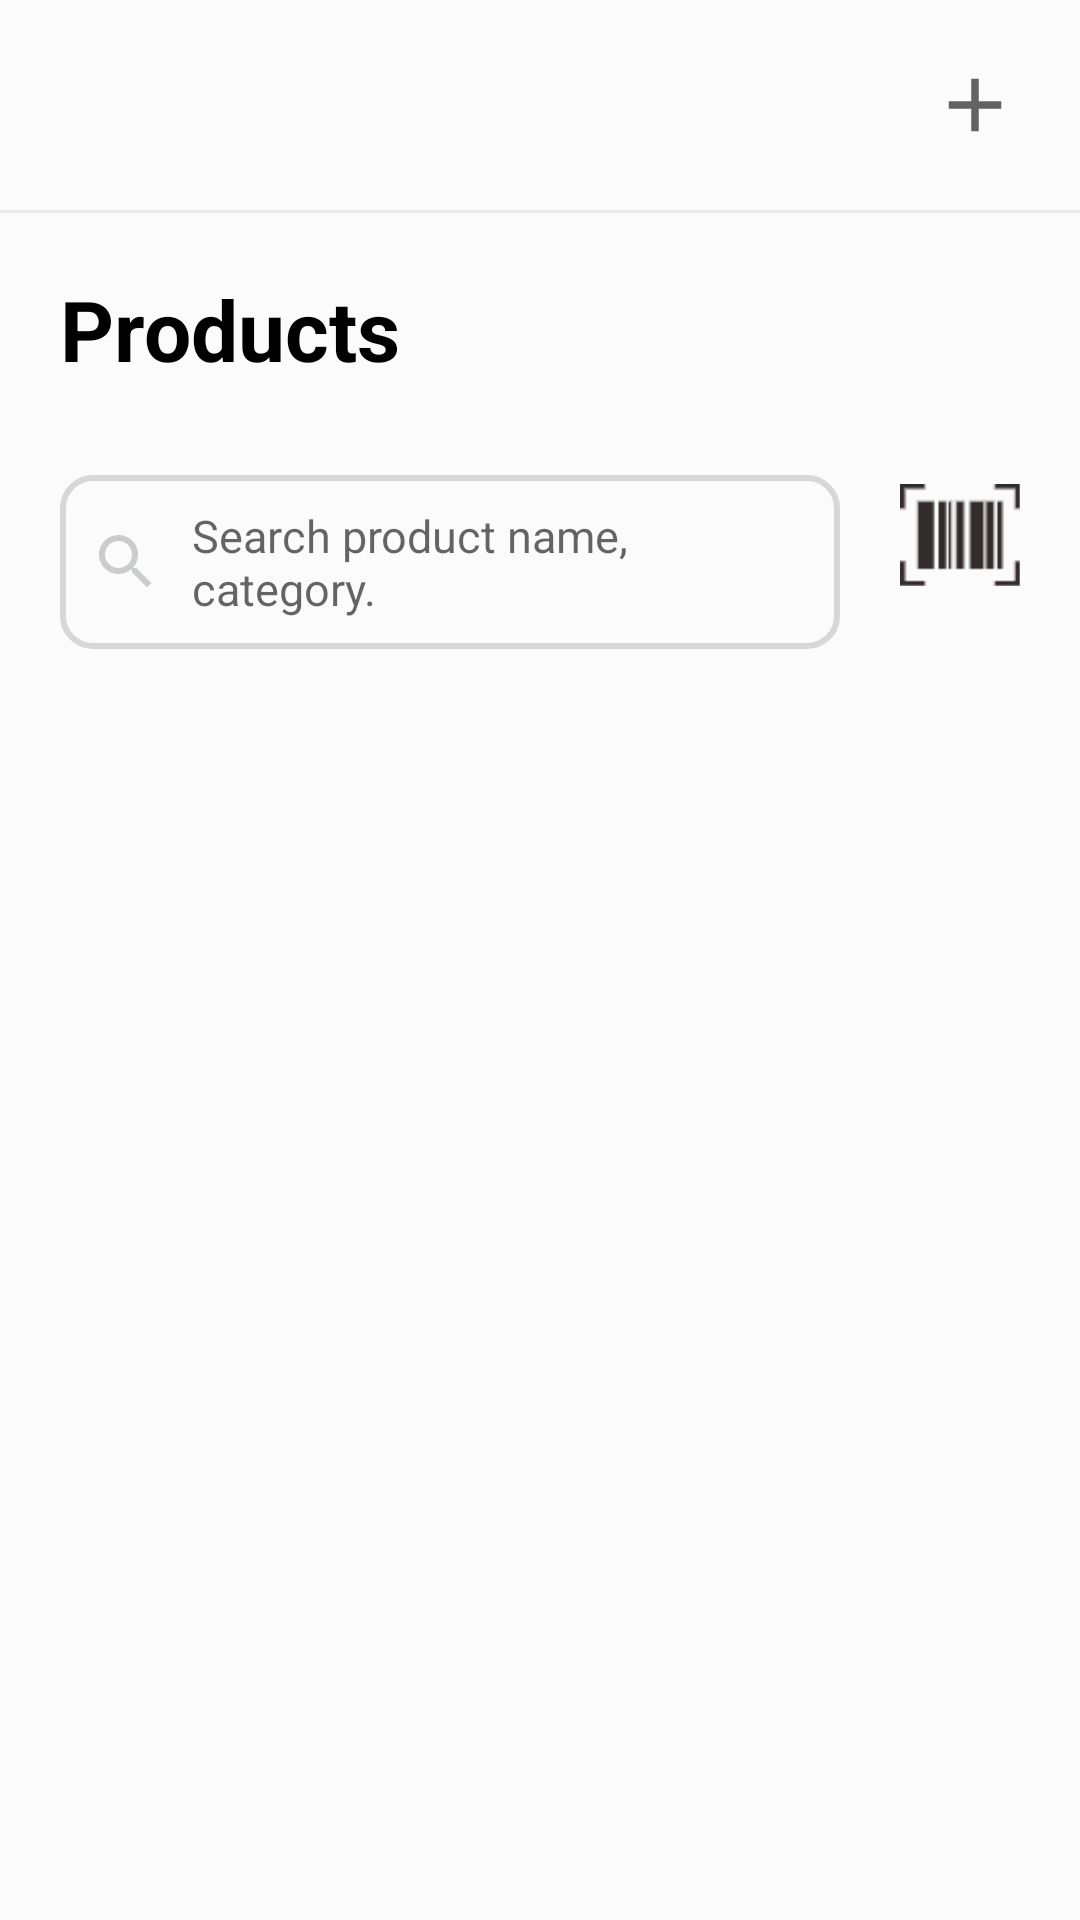

Where icons sit on this 1080w x 1920h app screen, as (x1, y1, x2, y2):
add: (948, 78, 1002, 132)
barcode scanner: (900, 484, 1020, 586)
